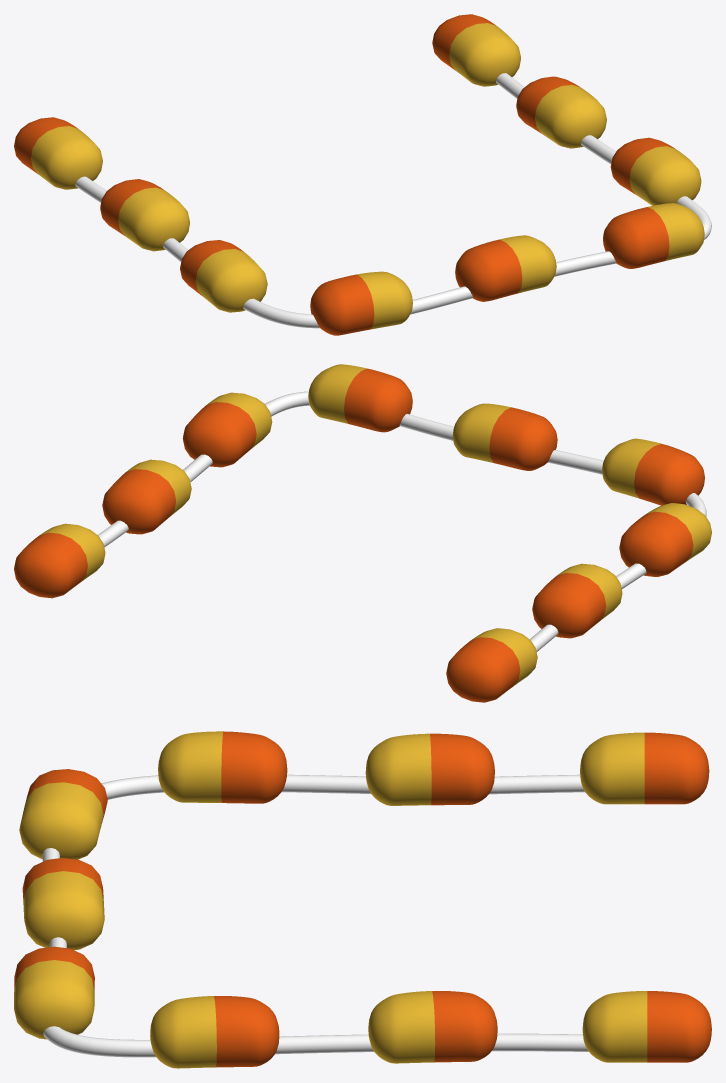
File: dubalar1.fbx
3 renders of one model, top to bottom at view 1: azimuth 30°, elevation 25°; view 2: azimuth 150°, elevation 25°; view 3: azimuth 270°, elevation 25°, orthographic. The views are drawn at different scales.
Visible parts, largest first — view 1: NurbsPath.002; view 2: NurbsPath.002; view 3: NurbsPath.002.
Part boxes in pixels (x1=…): NurbsPath.002: x1=14, y1=14, x2=711, y2=335; NurbsPath.002: x1=14, y1=364, x2=711, y2=702; NurbsPath.002: x1=14, y1=731, x2=711, y2=1068.
Size of the model in its own units: 8733 by 849 by 8594.
